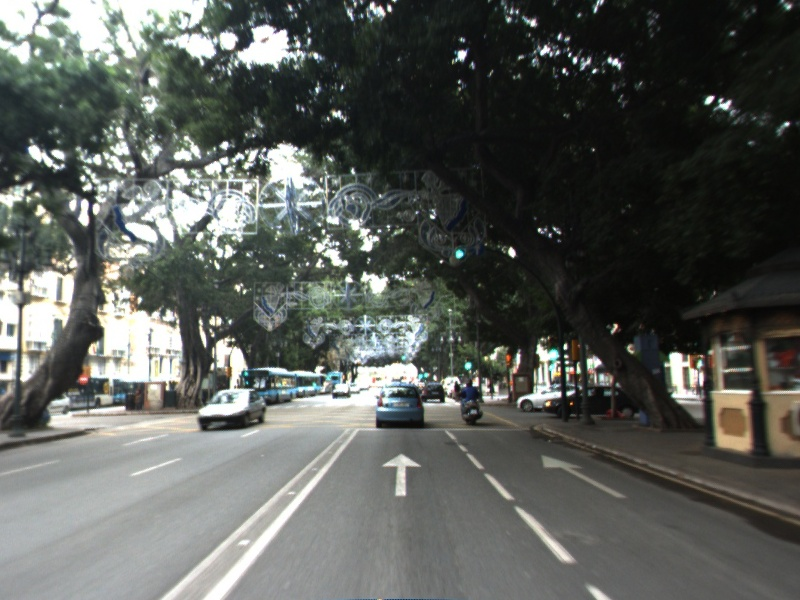STRAIGHT: (540, 453, 630, 500), (379, 451, 424, 498)
